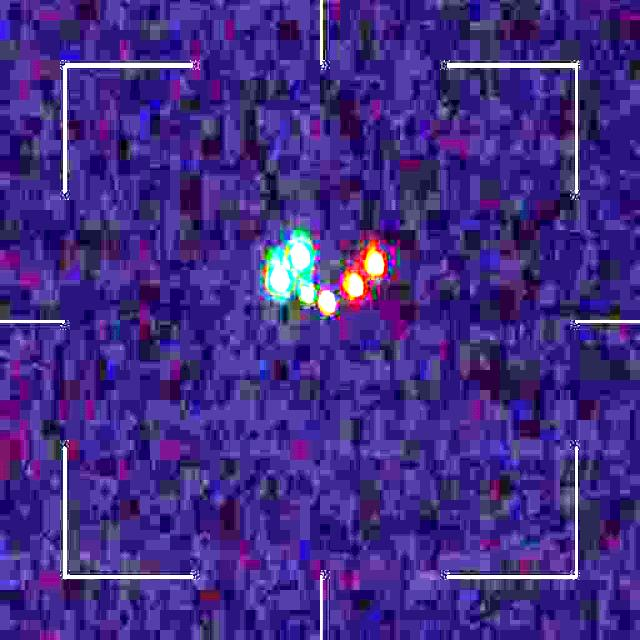bird: (268, 238, 385, 314)
